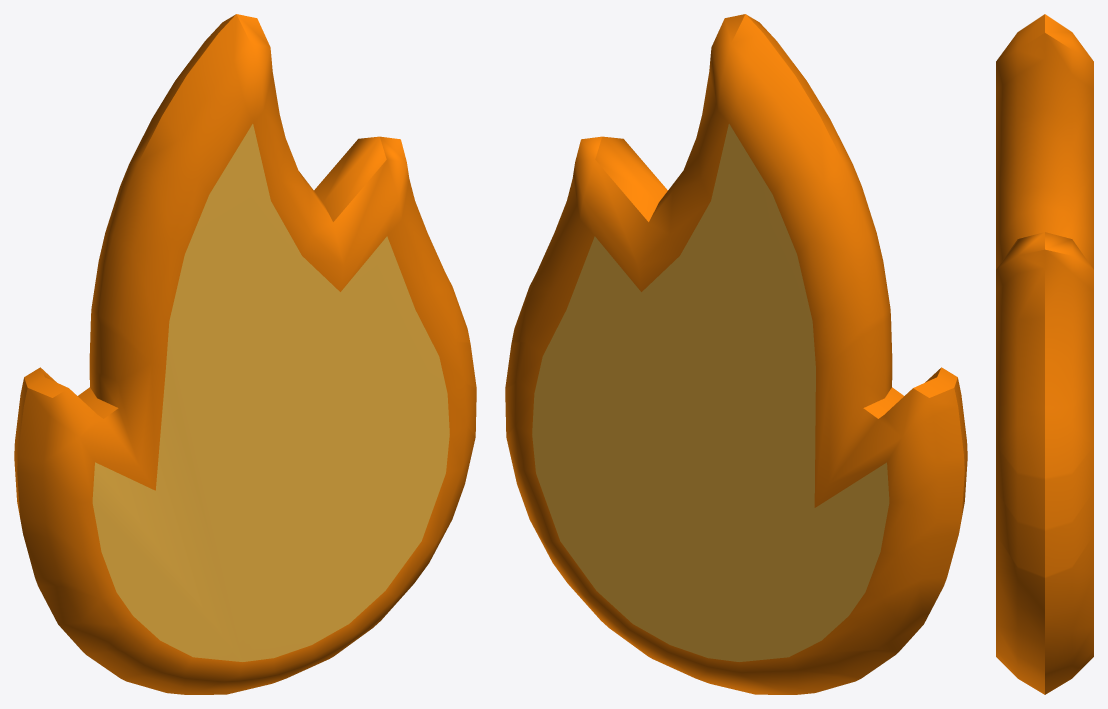
Rendered from Fire_2.fbx.
The picture shows the model from 3 angles, left to right: view 1: azimuth 30°, elevation 25°; view 2: azimuth 150°, elevation 25°; view 3: azimuth 270°, elevation 25°; orthographic projection. The views are drawn at different scales.
Visible parts, largest first — view 1: Fire_2; view 2: Fire_2; view 3: Fire_2.
Part boxes in pixels (x1,y1,x2,y2): Fire_2: [14, 14, 476, 694]; Fire_2: [505, 14, 967, 694]; Fire_2: [996, 14, 1093, 694].
Bounding box in the file's own units: 0.1207 × 0.1711 × 0.0233.
